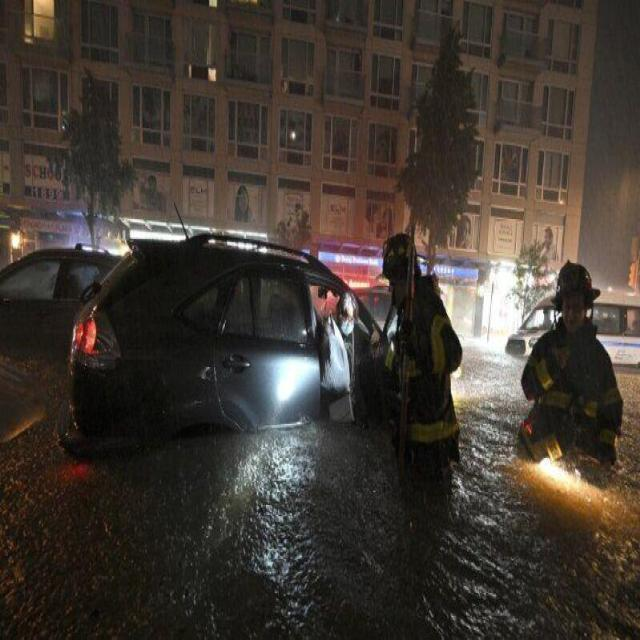water: (0, 338, 638, 638)
